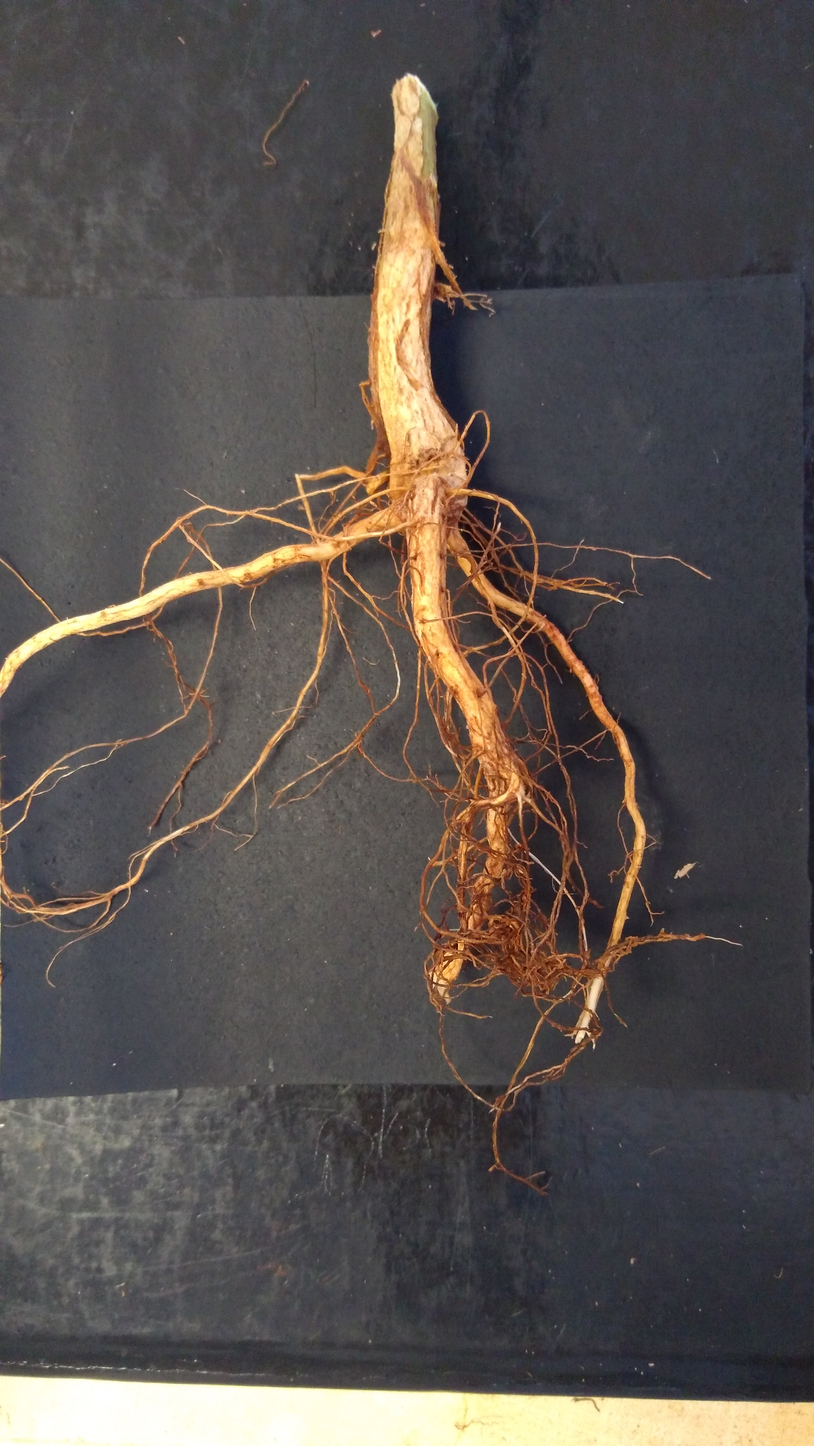nodule: (501, 945, 563, 991), (405, 425, 441, 465), (439, 472, 468, 519), (487, 913, 521, 946), (431, 281, 454, 304)
